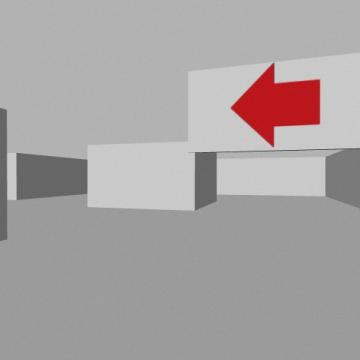red_left: (231, 63, 320, 146)
